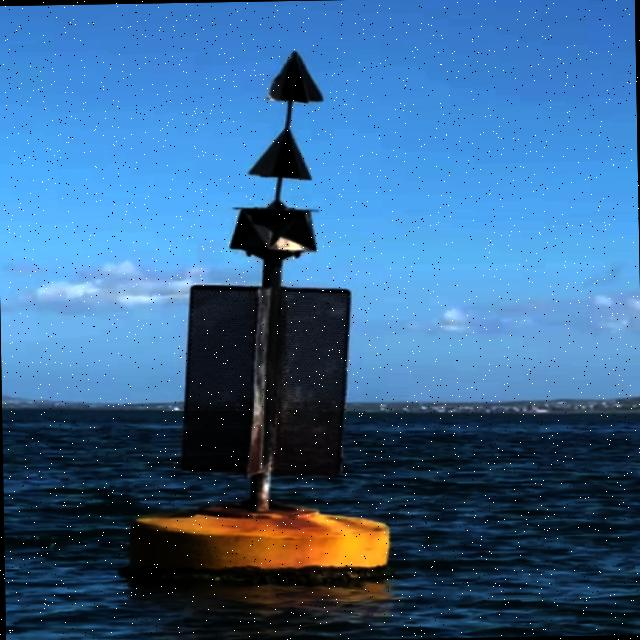marque: (128, 50, 396, 591)
